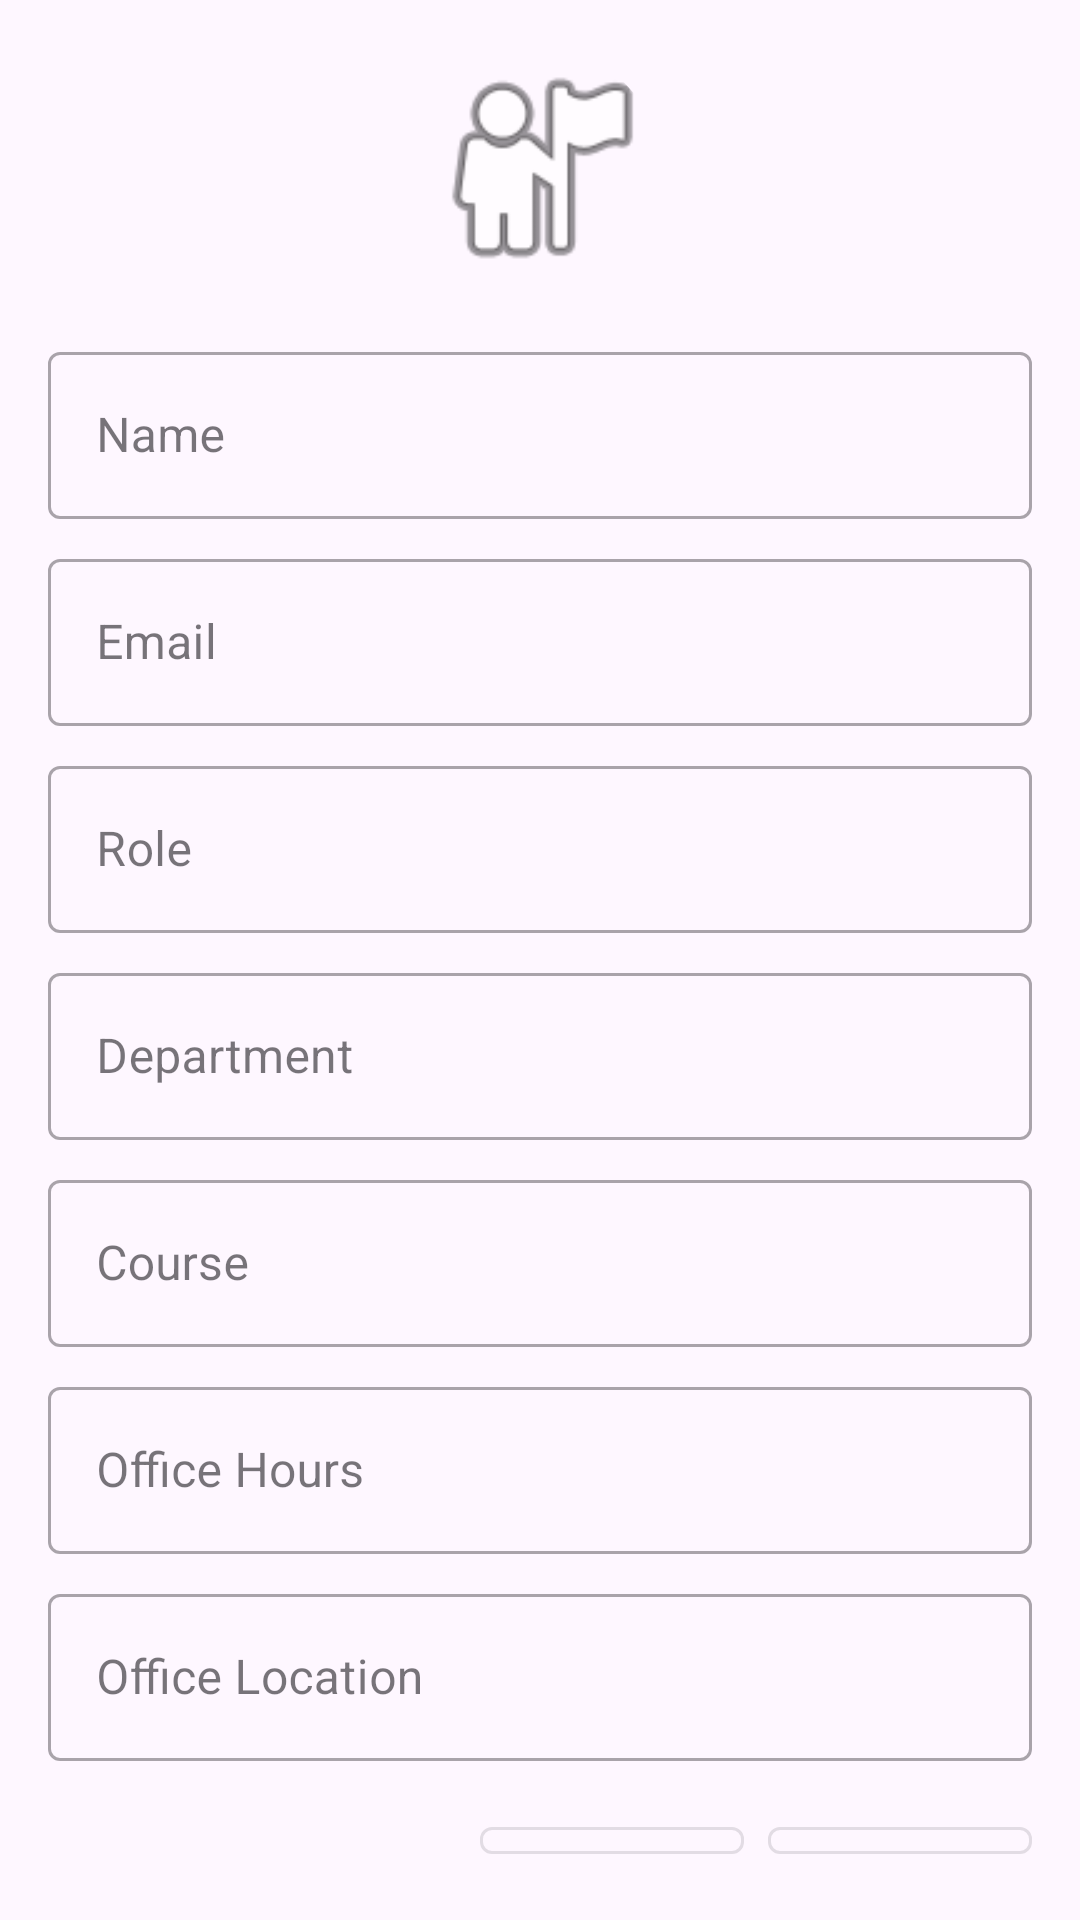

Point at icon controls on the screen. Image size 1080w x 1920h, points as (x=x, y=y).
myplaces: (x=542, y=168)
